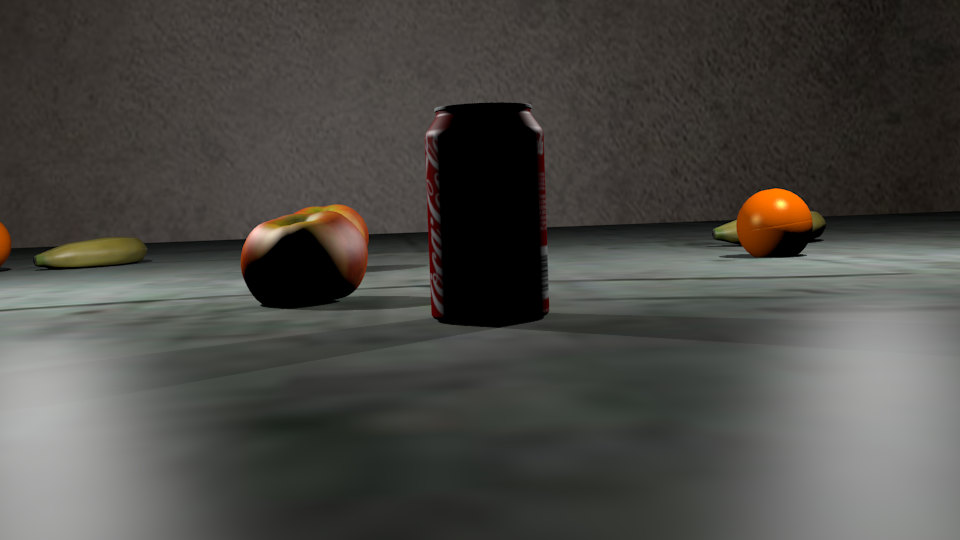apple: (241, 211, 368, 284), (284, 205, 369, 262)
banana: (713, 211, 825, 239), (35, 238, 146, 266)
cola_can: (425, 104, 550, 316)
orange: (737, 189, 813, 253), (1, 223, 11, 261)
